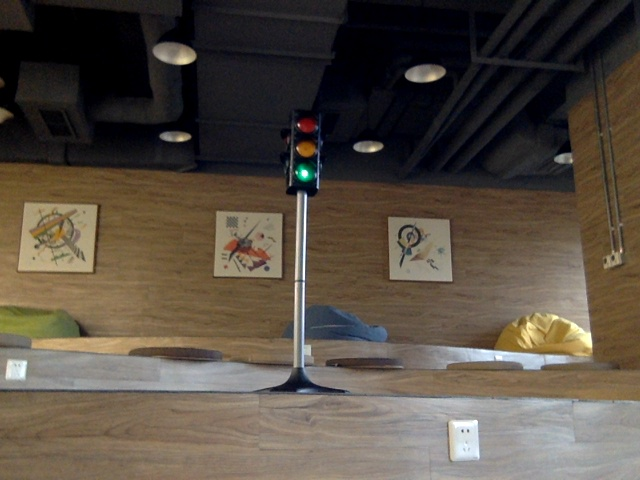green: (289, 117, 317, 186)
